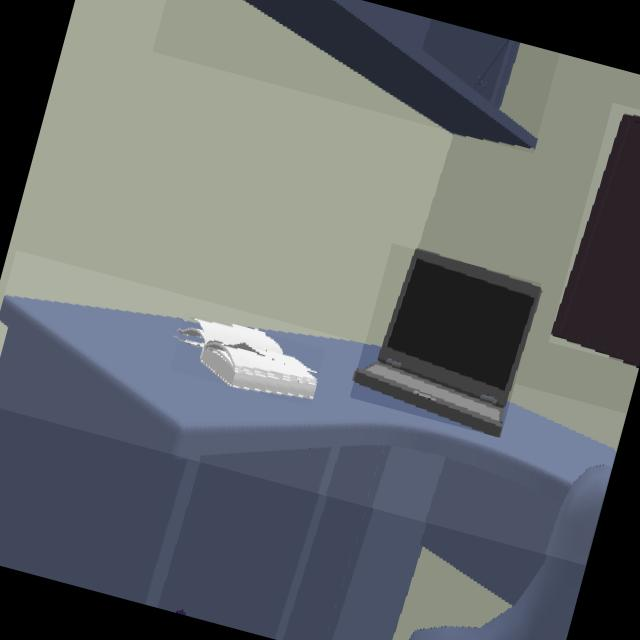book: (181, 319, 318, 399)
laptop: (355, 249, 540, 437)
monitor: (551, 115, 640, 365)
shelf: (247, 0, 535, 146)
table: (0, 298, 614, 503)
